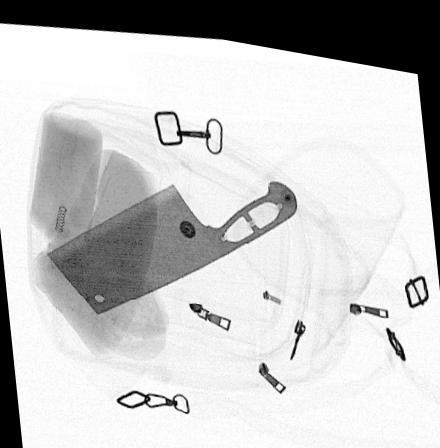Knife: (45, 168, 297, 311)
